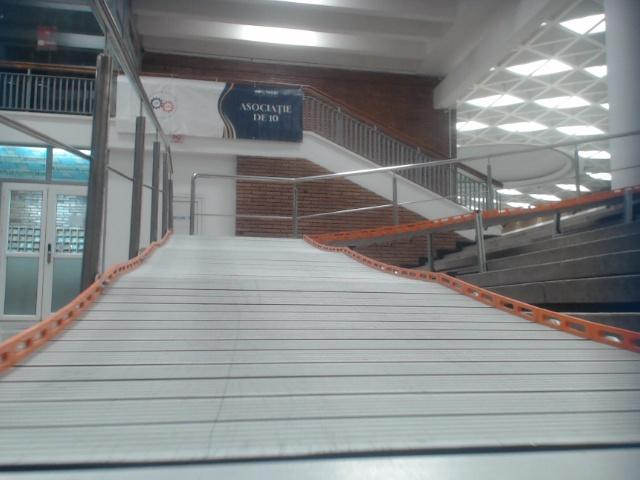rampUp: (0, 185, 639, 479)
ramps-railing: (189, 129, 639, 233), (77, 0, 177, 297), (194, 163, 639, 223), (0, 110, 168, 197), (481, 162, 501, 212), (285, 190, 300, 234), (572, 151, 583, 194), (390, 174, 399, 225)
